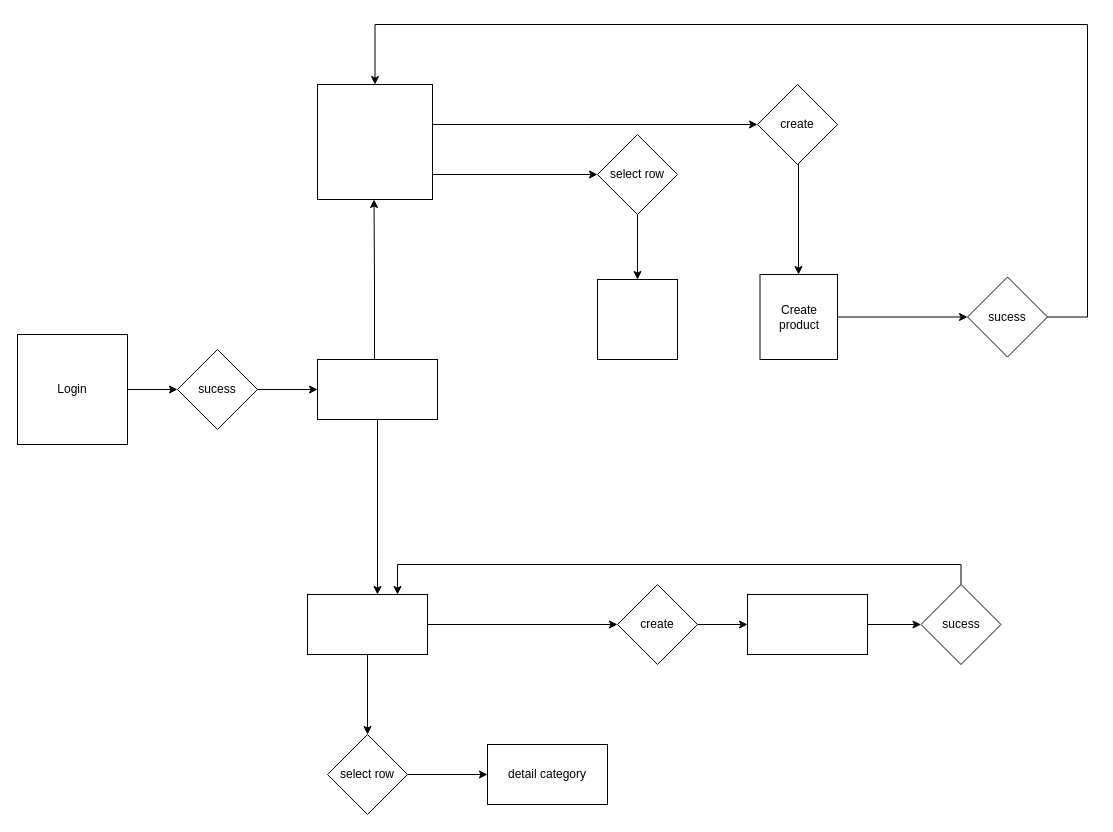
Image size: 1113x832. Some labels were removed from this diagram. The shapes that lost their labels are listed below. From the top down, each one's centre as x and y in pixels, then its label:
At (x=374, y=142): "Product list".
At (x=637, y=319): "Detail product".
At (x=377, y=389): "nav link".
At (x=367, y=624): "list category".
At (x=807, y=624): "Create category".
